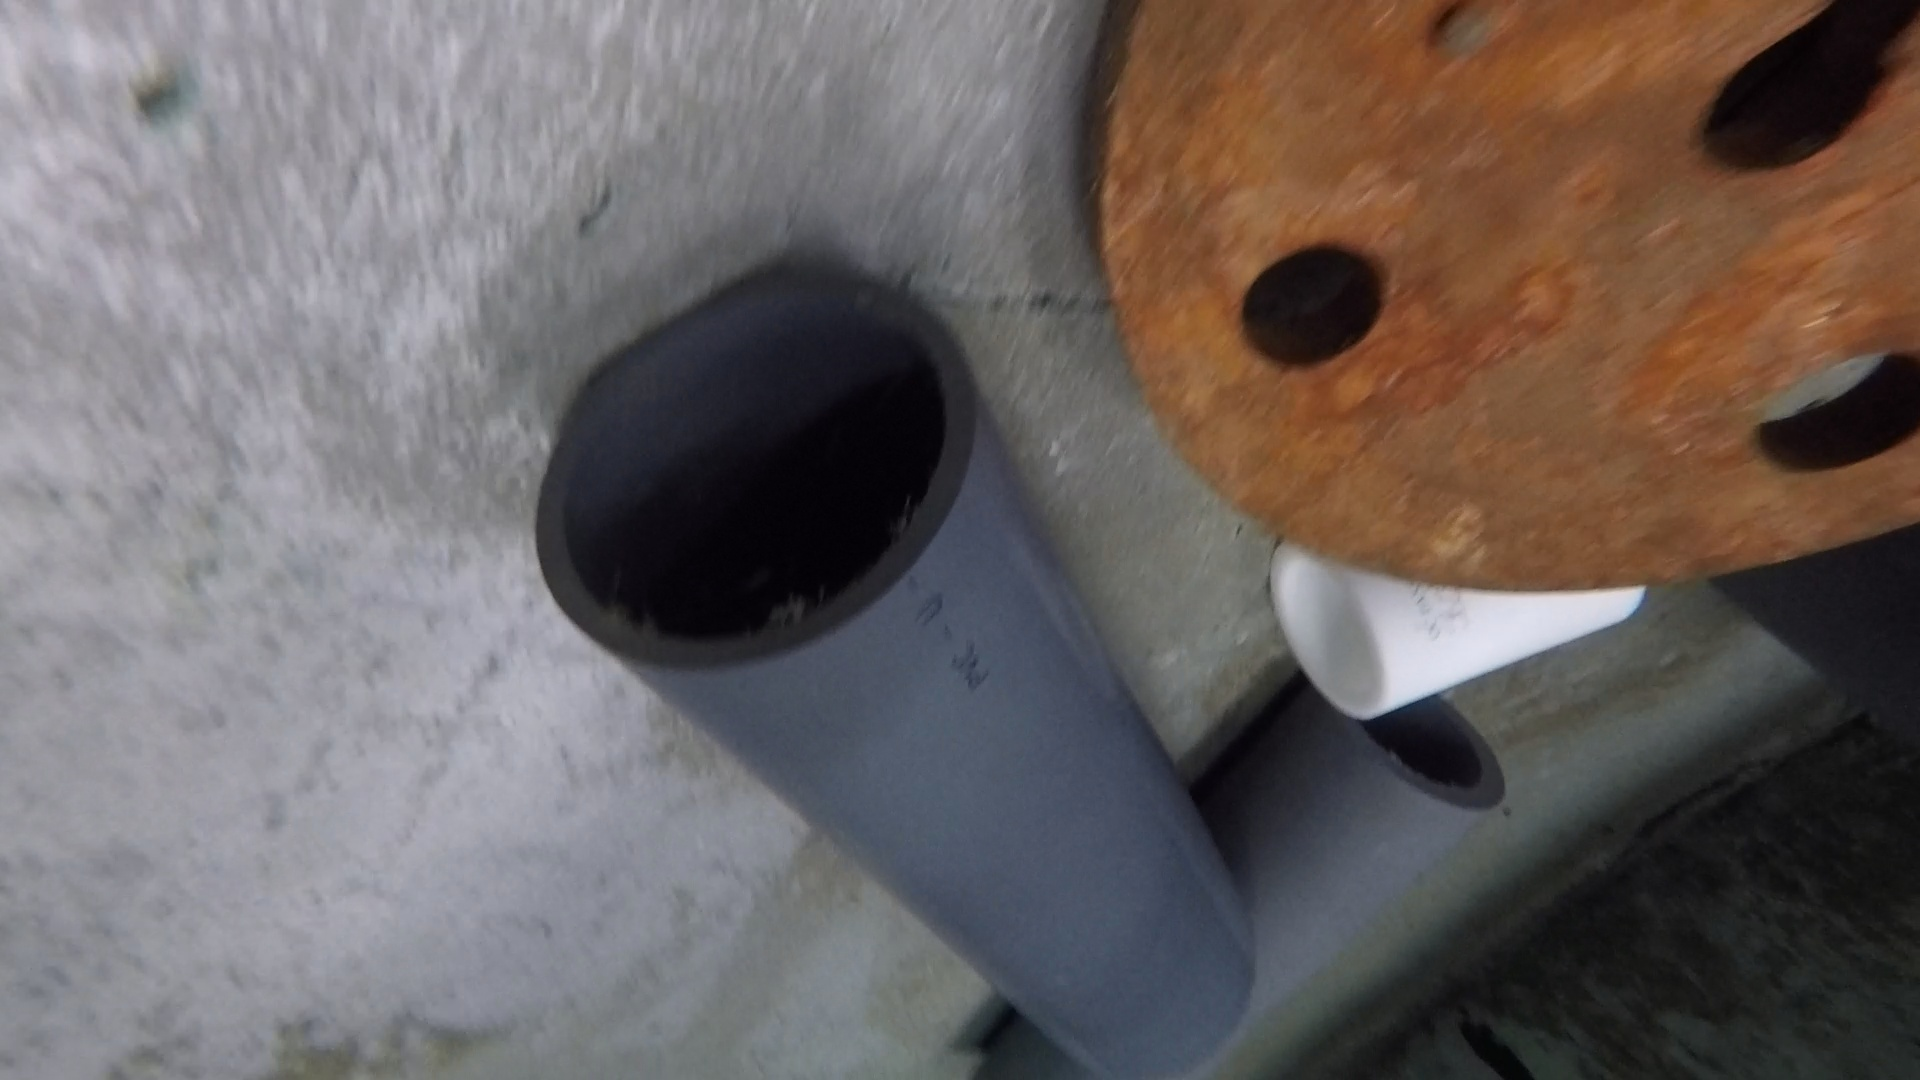flange: (1081, 1, 1917, 593)
pipe: (535, 268, 1259, 1077), (977, 671, 1505, 1080), (1269, 539, 1646, 724)
